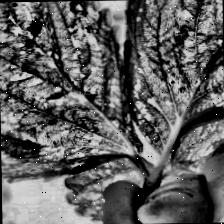Angular Leafspot: (0, 0, 144, 183), (122, 0, 224, 170), (63, 158, 163, 224), (159, 110, 224, 184)
